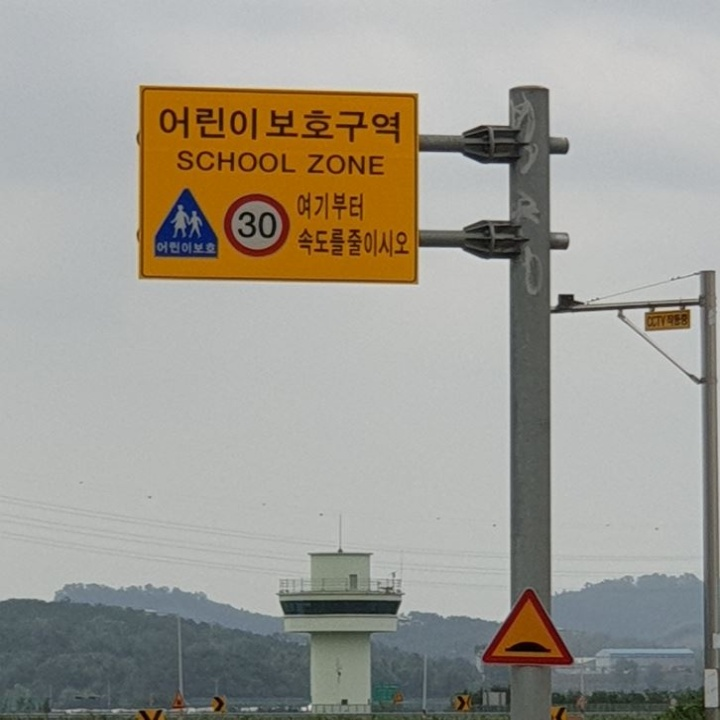child: (164, 197, 207, 241)
